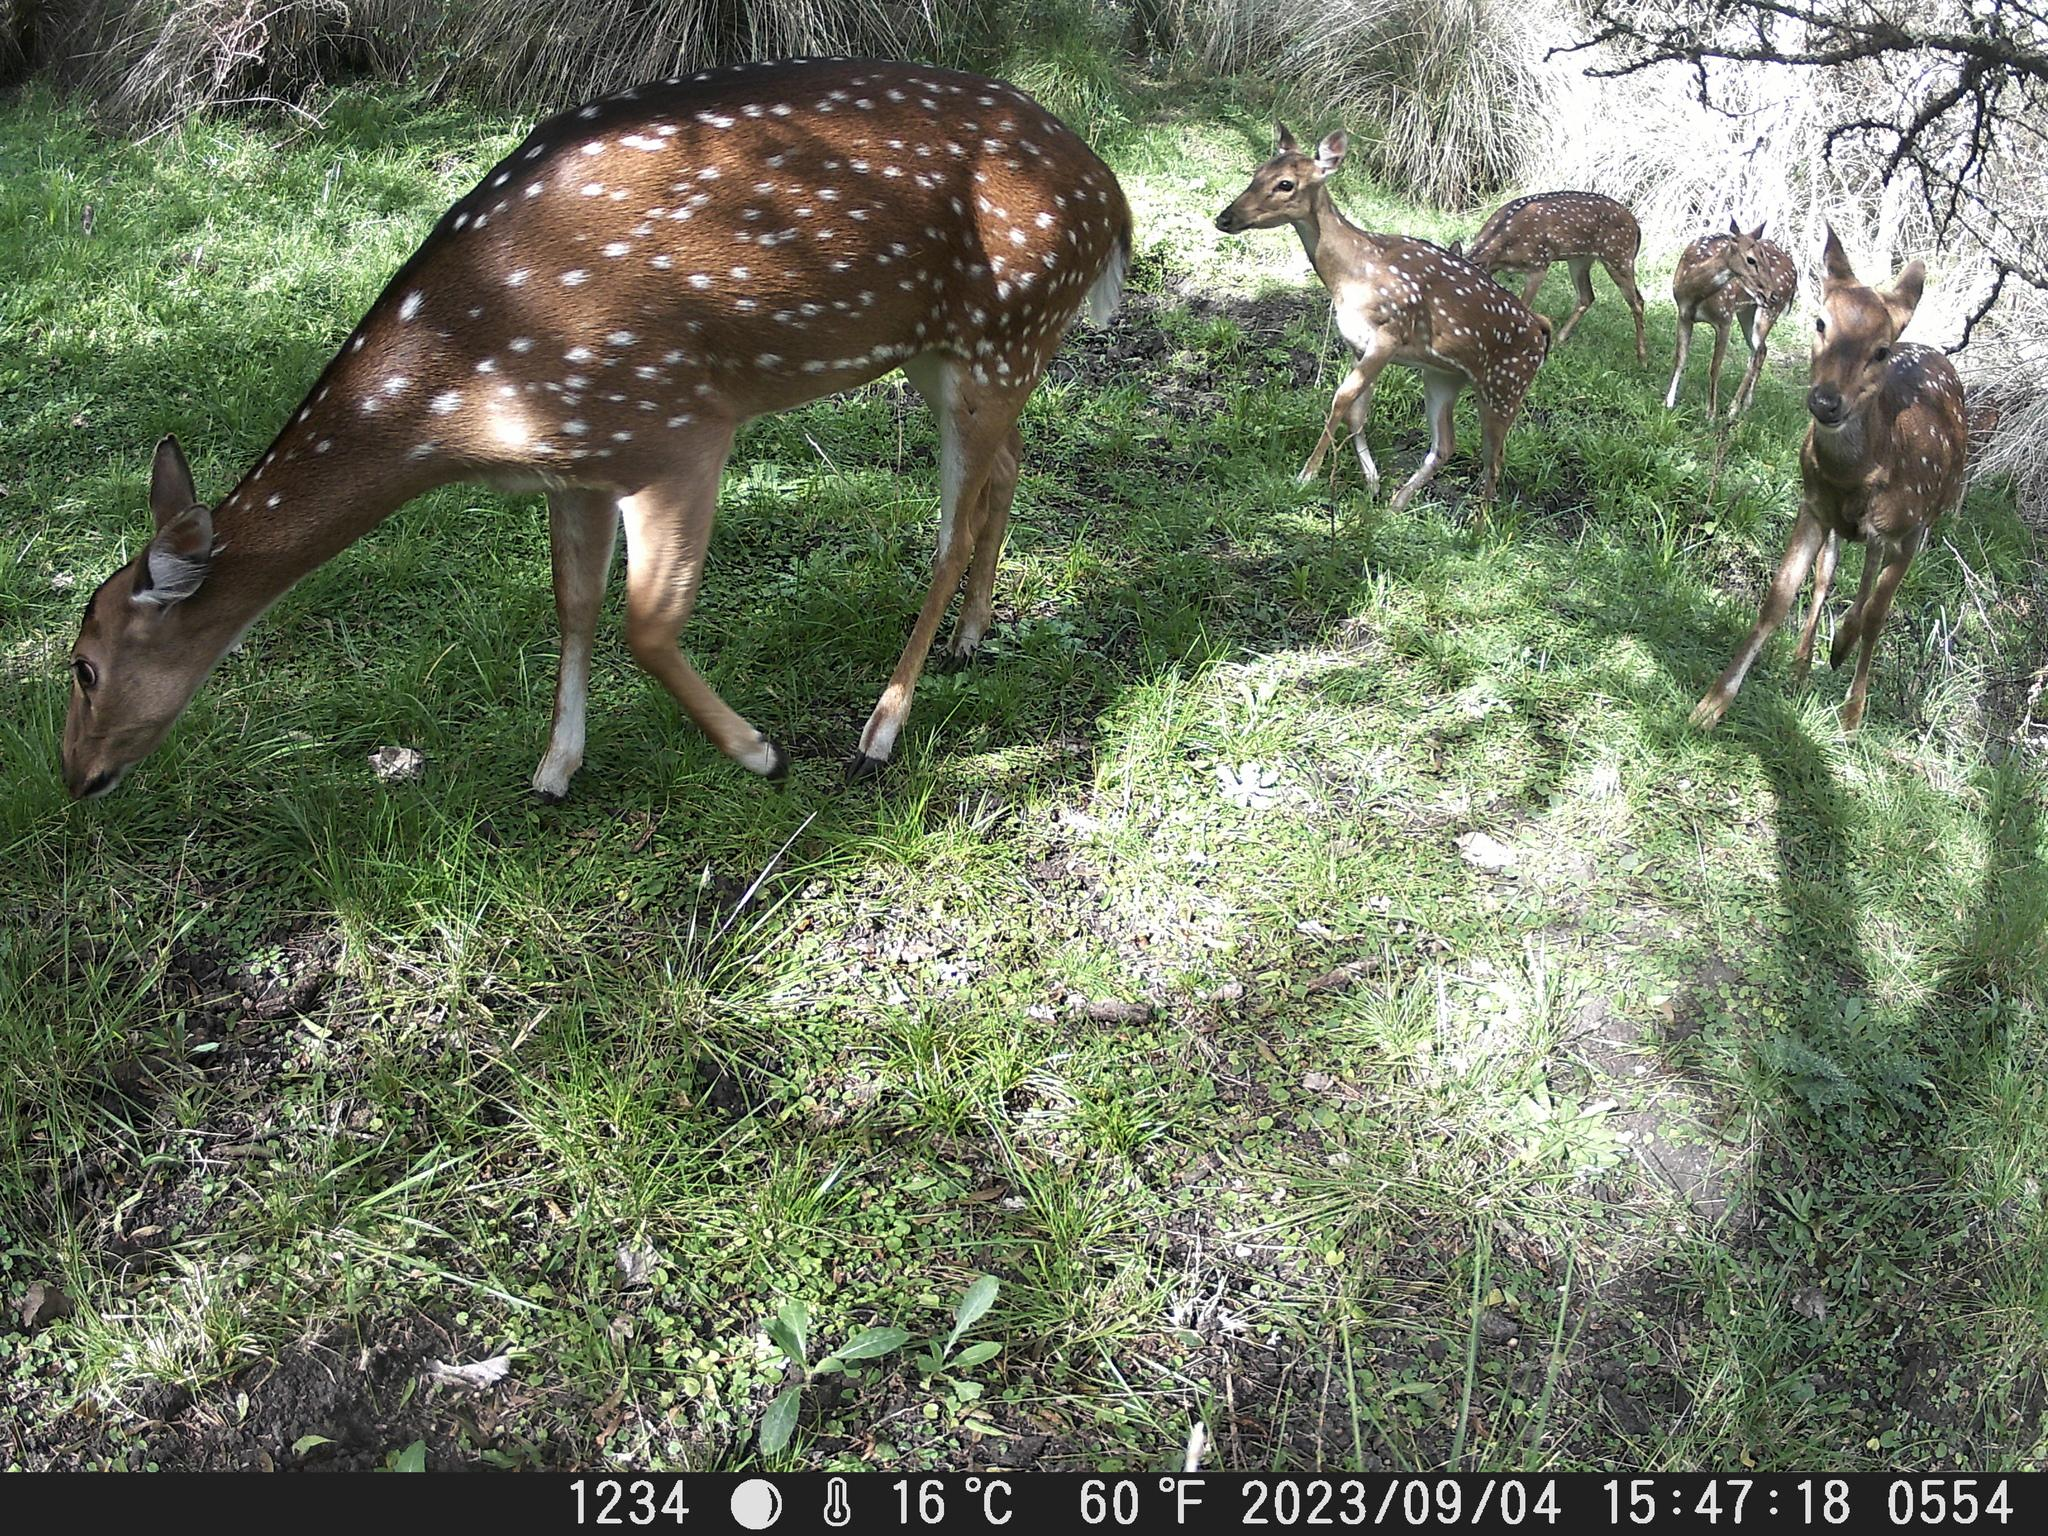Deer: (61, 60, 1132, 799), (1690, 227, 1967, 731), (1214, 124, 1551, 510), (1464, 190, 1643, 358), (1664, 218, 1796, 423)
